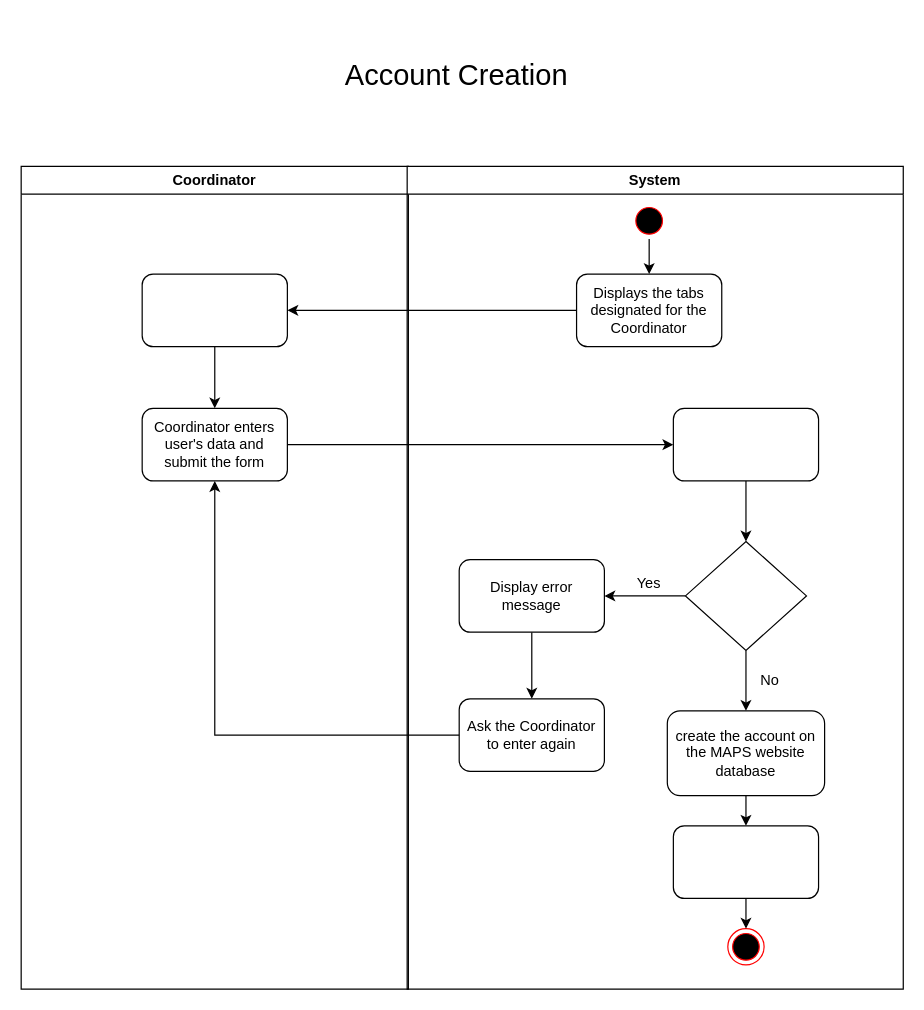
This 924x1010 diagram has some shape labels left out. Here are the shapes that lost their labels. From the top down, the box of each, then its label:
(141, 273, 287, 347): Navigate to Manage Account Tab
(672, 407, 819, 481): System validates user data
(684, 540, 806, 650): is the data provided already existed?
(672, 825, 819, 898): Store the account information
